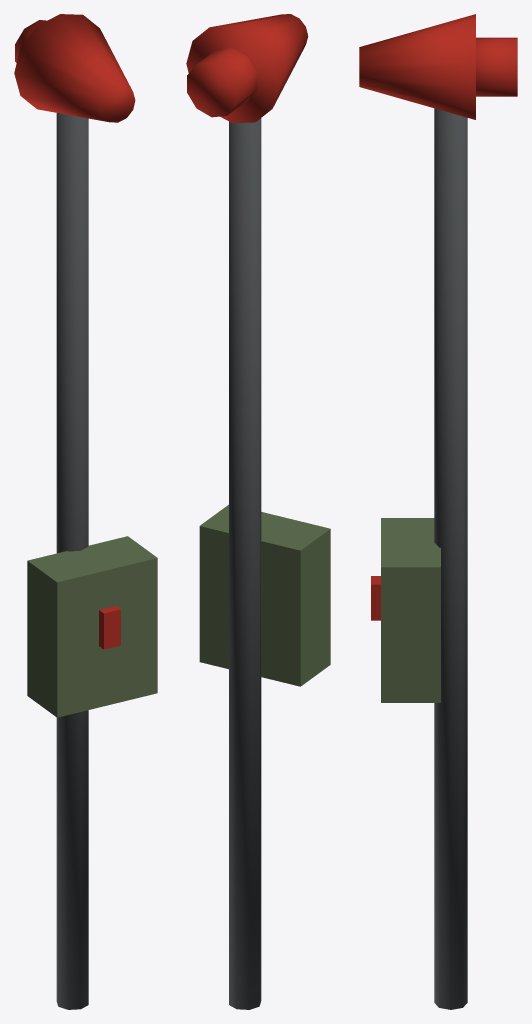
File: alarm.glb
3 views of the same model, side by side, from view 1: azimuth 30°, elevation 25°; view 2: azimuth 150°, elevation 25°; view 3: azimuth 270°, elevation 25° (orthographic).
Visible parts, largest first — view 1: Alarm; view 2: Alarm; view 3: Alarm.
Boxes of the visible parts, left/top/right/bottom form: Alarm: left=14, top=14, right=157, bottom=1009; Alarm: left=186, top=14, right=330, bottom=1009; Alarm: left=359, top=14, right=517, bottom=1009.
Size of the model in its own units: 0.35 by 3.26 by 0.475.
